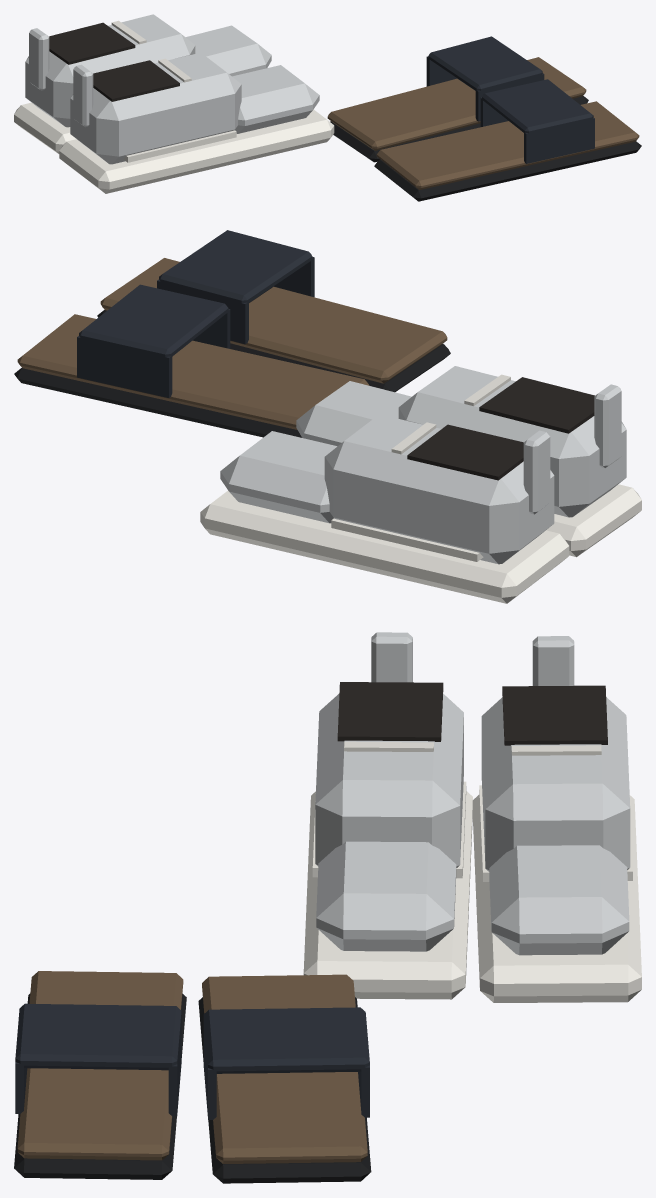
Rendered from shoes.glb.
3 views of the same model, one above another, from view 1: azimuth 30°, elevation 25°; view 2: azimuth 150°, elevation 25°; view 3: azimuth 270°, elevation 25° (orthographic). The views are drawn at different scales.
Parts seen in each view (by area): view 1: shoes; view 2: shoes; view 3: shoes.
Part boxes in pixels (left/top/right/bottom): shoes: left=14, top=14, right=641, bottom=201; shoes: left=14, top=230, right=641, bottom=603; shoes: left=14, top=632, right=641, bottom=1183.
Size of the model in its own units: 0.5125 by 0.118 by 0.3642.
